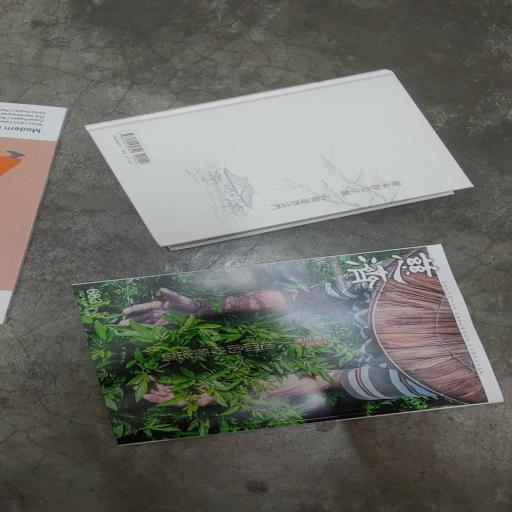paper: (65, 247, 505, 440), (82, 69, 476, 247)
